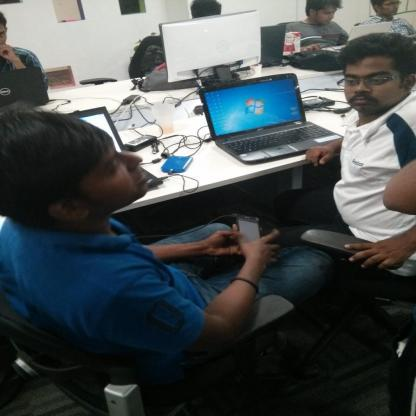board: (198, 73, 342, 165), (67, 107, 164, 190), (318, 20, 393, 52), (0, 65, 50, 107)
